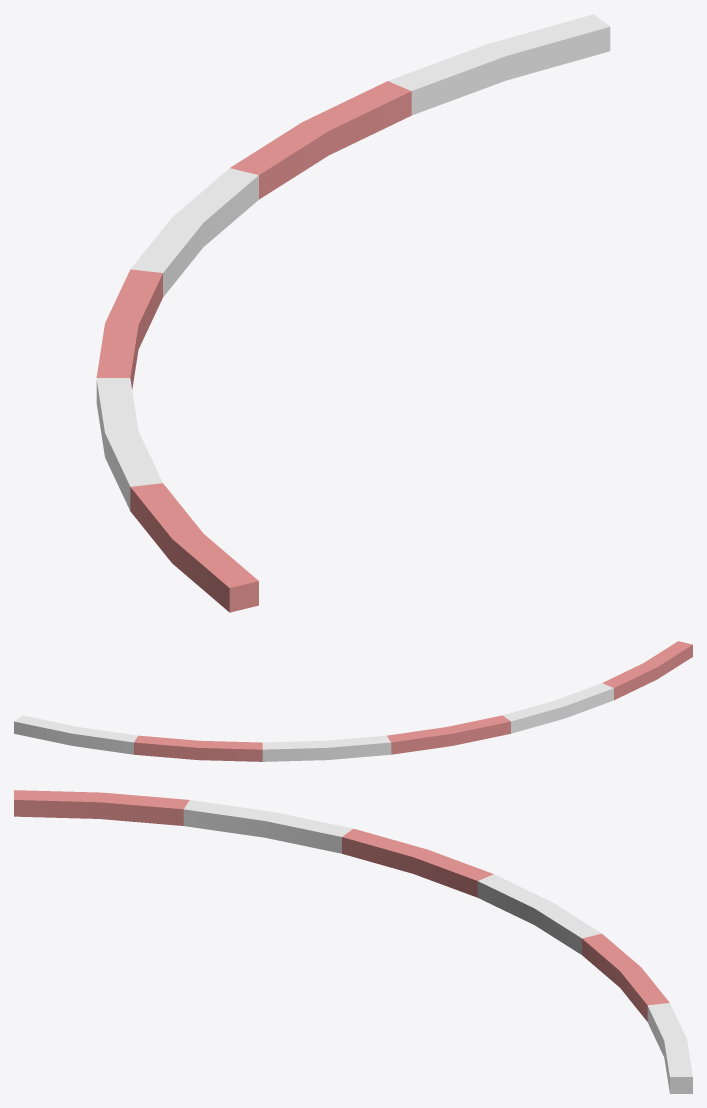
The model's file is roadCornerLargerWallInner.glb.
3 views of the same model, one above another, from view 1: azimuth 30°, elevation 25°; view 2: azimuth 150°, elevation 25°; view 3: azimuth 270°, elevation 25° (orthographic). The views are drawn at different scales.
Parts seen in each view (by area): view 1: roadCornerLargerWallInner(Clone); view 2: roadCornerLargerWallInner(Clone); view 3: roadCornerLargerWallInner(Clone).
Boxes of the visible parts, x1=… form: roadCornerLargerWallInner(Clone): x1=96, y1=14, x2=610, y2=612; roadCornerLargerWallInner(Clone): x1=14, y1=641, x2=692, y2=761; roadCornerLargerWallInner(Clone): x1=14, y1=790, x2=692, y2=1093.
Bounding box in the file's own units: 1.47 × 0.04 × 1.47.
